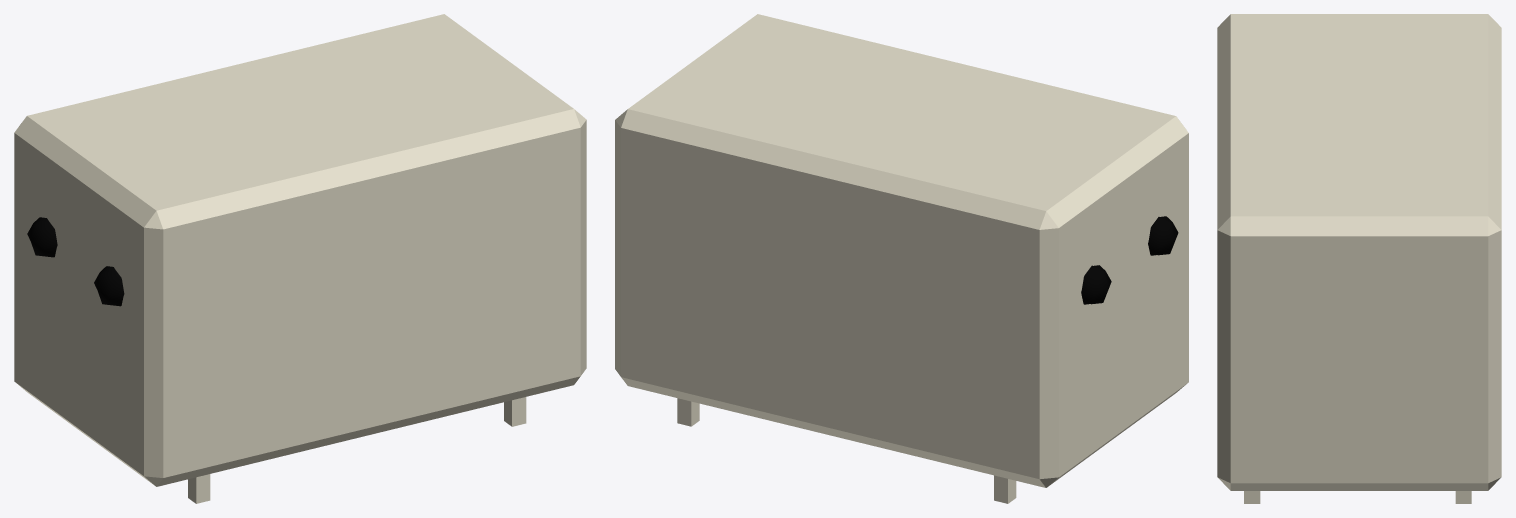
The model's file is cube pet.fbx.
3 views of the same model, side by side, from view 1: azimuth 30°, elevation 25°; view 2: azimuth 150°, elevation 25°; view 3: azimuth 270°, elevation 25° (orthographic).
Parts seen in each view (by area): view 1: pCube12; view 2: pCube12; view 3: pCube12.
Boxes of the visible parts, bbox=[...] form: pCube12: bbox=[14, 14, 586, 503]; pCube12: bbox=[615, 14, 1188, 503]; pCube12: bbox=[1217, 14, 1501, 503].
Bounding box in the file's own units: 3.17 × 2.04 × 1.71.
